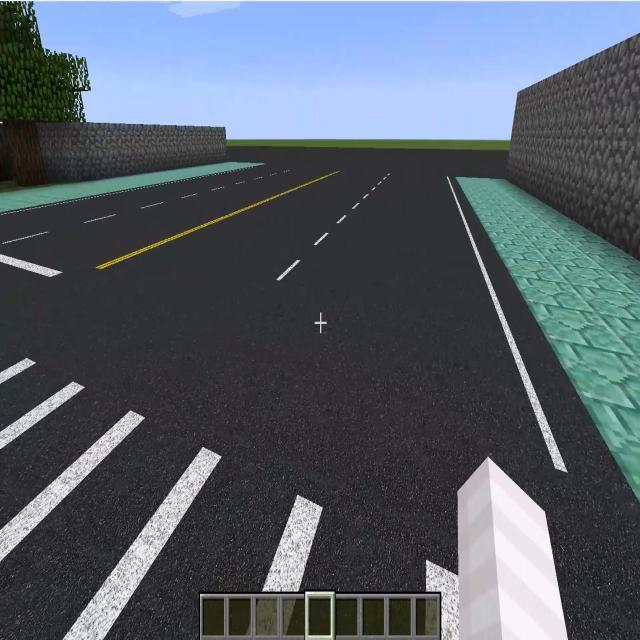crosswalk: (2, 340, 455, 636)
road: (3, 148, 629, 539)
sidewalk: (457, 178, 640, 502), (0, 161, 262, 220)
